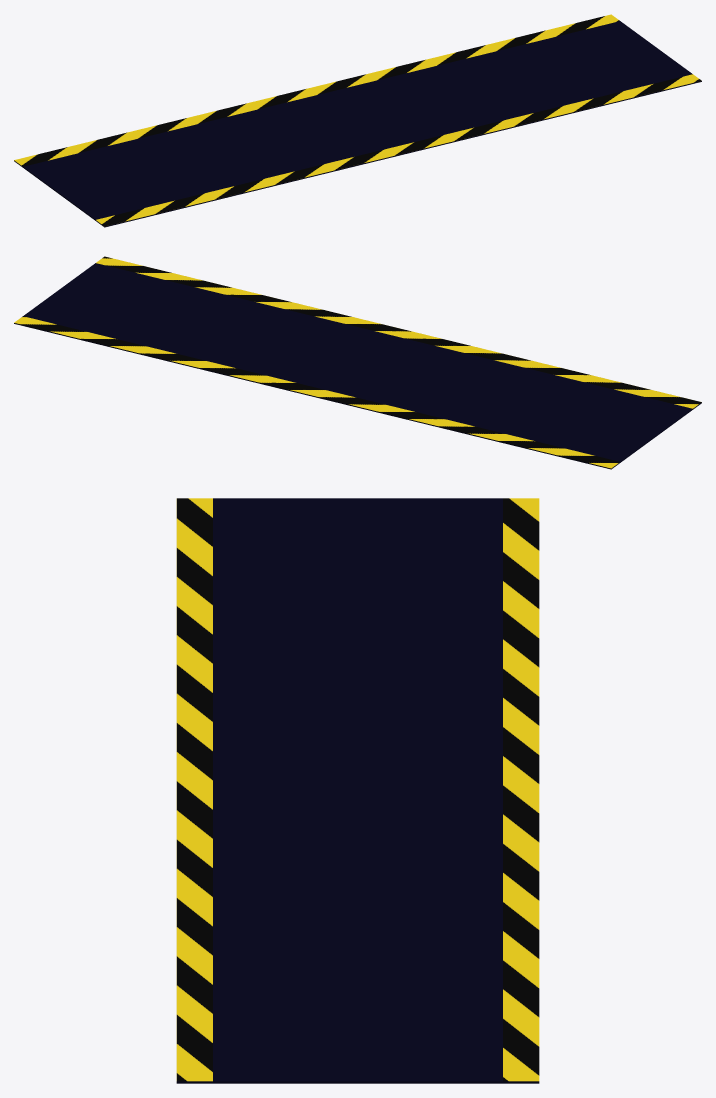
The model's file is caution_tape.obj.
3 views of the same model, one above another, from view 1: azimuth 30°, elevation 25°; view 2: azimuth 150°, elevation 25°; view 3: azimuth 270°, elevation 25° (orthographic). The views are drawn at different scales.
Parts seen in each view (by area): view 1: Cube; view 2: Cube; view 3: Cube.
Part boxes in pixels (bbox=[...]): Cube: bbox=[14, 14, 701, 227]; Cube: bbox=[14, 256, 701, 469]; Cube: bbox=[176, 498, 539, 1083].
Bounding box in the file's own units: 7.61 × 0.0123 × 2.
